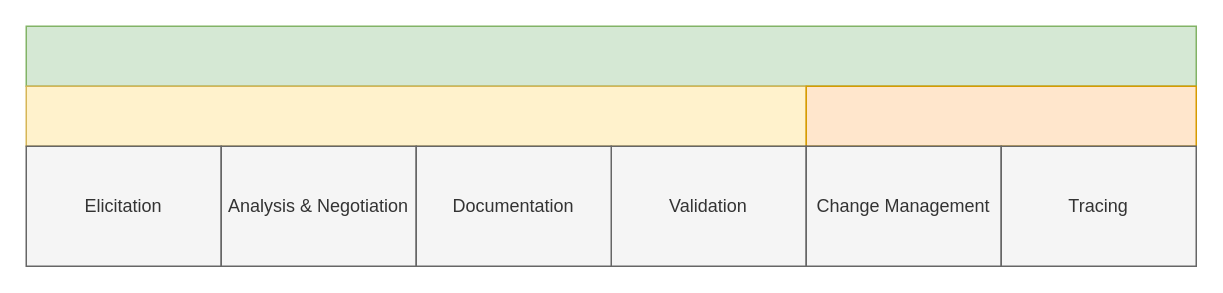
Image size: 1223x293. Some labels were removed from this diagram. Here are the shapes that lost their labels. From the top down, the centre of each, then its label:
the point at 610,55: Requirements Engineering
the point at 415,115: Requirements Analysis
the point at 1000,115: Requirements Management
